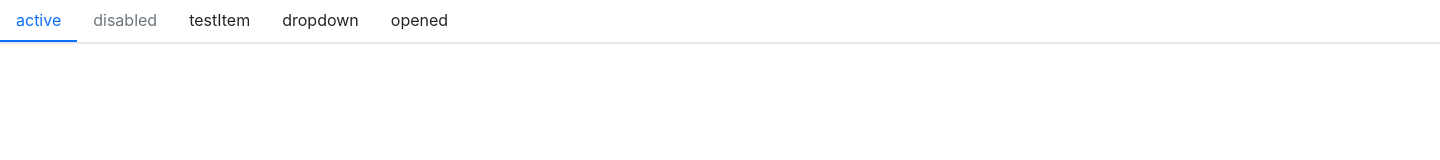
should render Menu and MenuItem in row mode › should show dropdown subMenu when hover
expect the text "dropdown1" is not shown: met
Hover over the text "dropdown" at (320, 20), box [282,8,359,32]
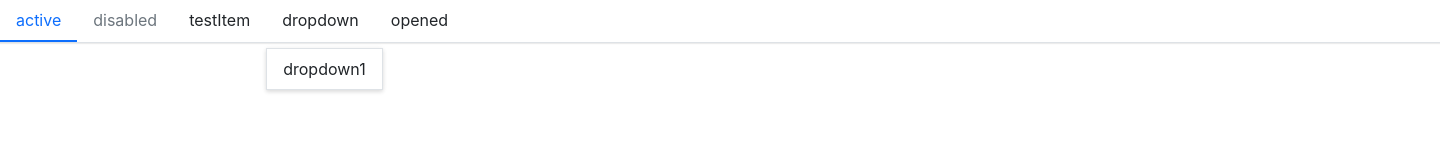
expect the list item "dropdown1" is shown: met
Click the list item "dropdown1". click: (324, 69)
box: [283,59,366,79]
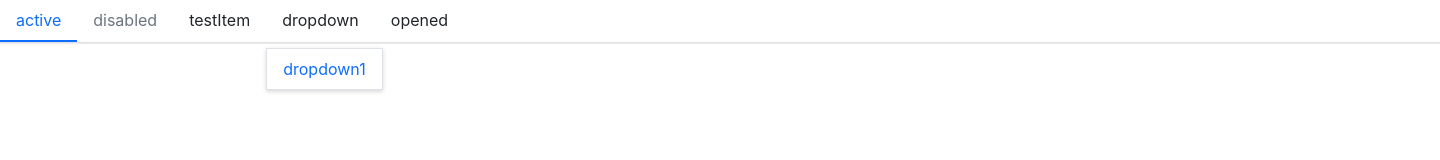
Move the pointer off the text "dropdown", box [282,8,359,32]
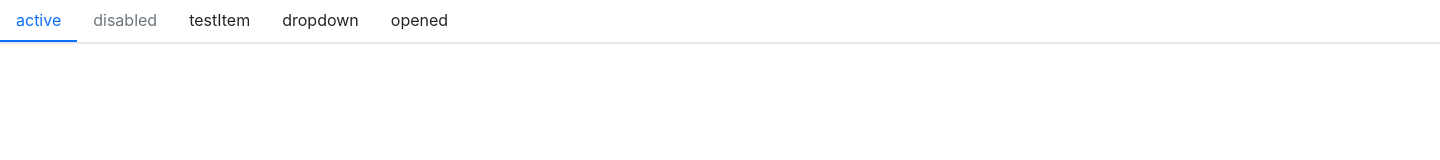
expect the list item "dropdown1" is gone: met
